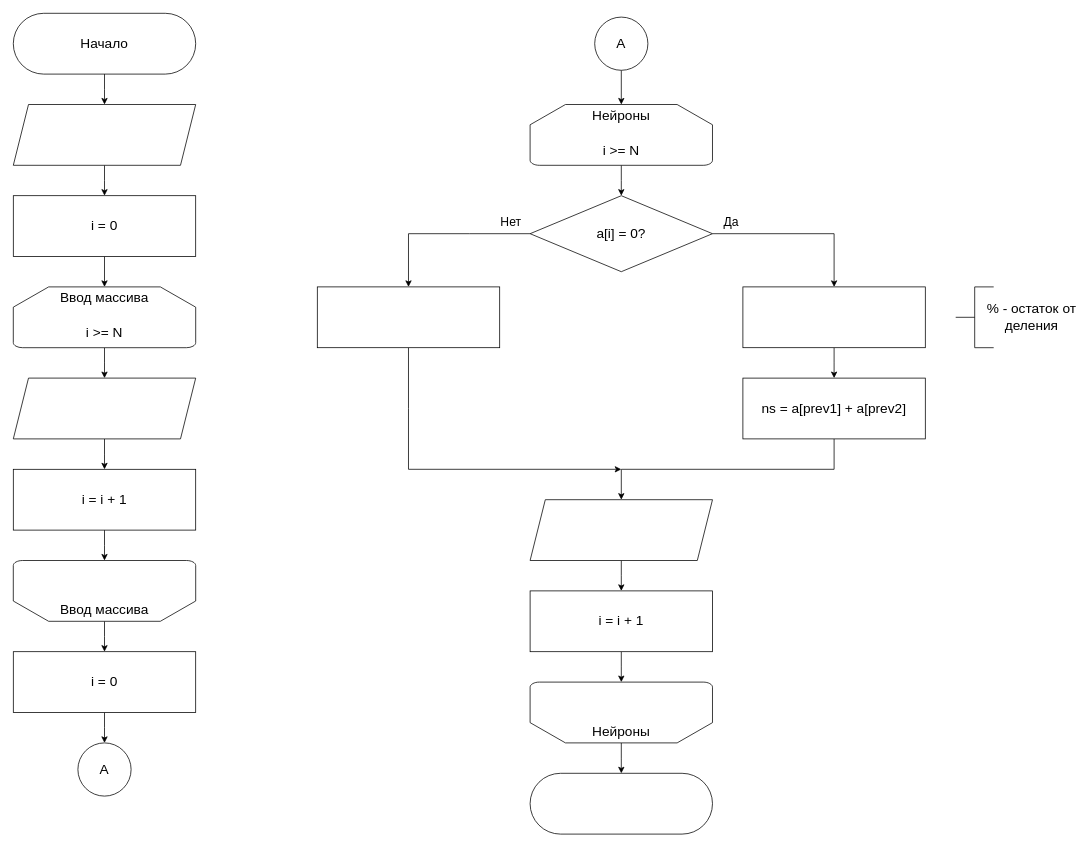
The diagram is 1091 pixels wide and 847 high, and some of its shapes have lost their labels. Each missing label, with the centre of its shape:
"ns = a[i]" goes at [408,317].
"prev1 = (i - 1 + N) % N prev2 = (i - 2 + N) % N" goes at [833,317].
"Ввод a[i]" goes at [104,408].
"Ввод N" goes at [104,134].
"Вывод ns" goes at [620,529].
"Конец" goes at [620,803].
